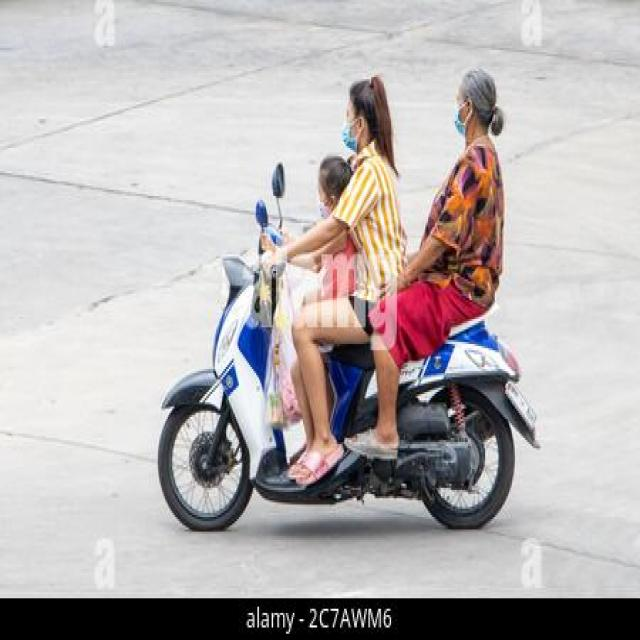Not Wearing Helmet: (280, 80, 423, 217)
Triple Riding: (227, 62, 572, 520)
